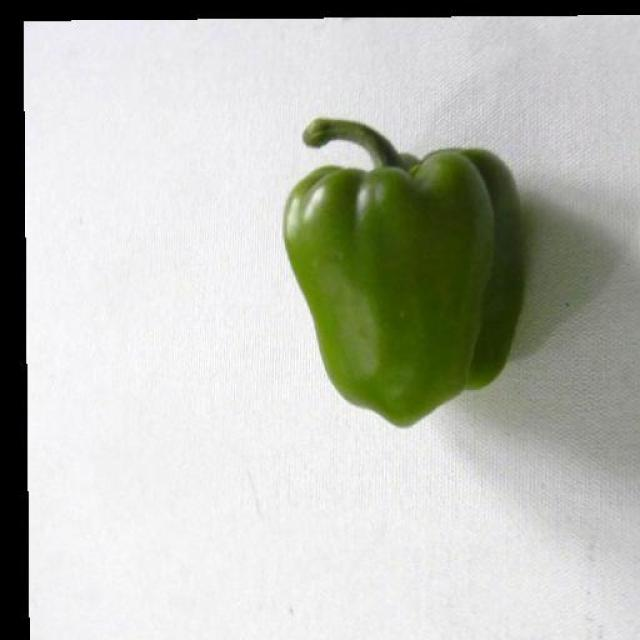Fresh_Capsicum: (239, 117, 572, 439)
